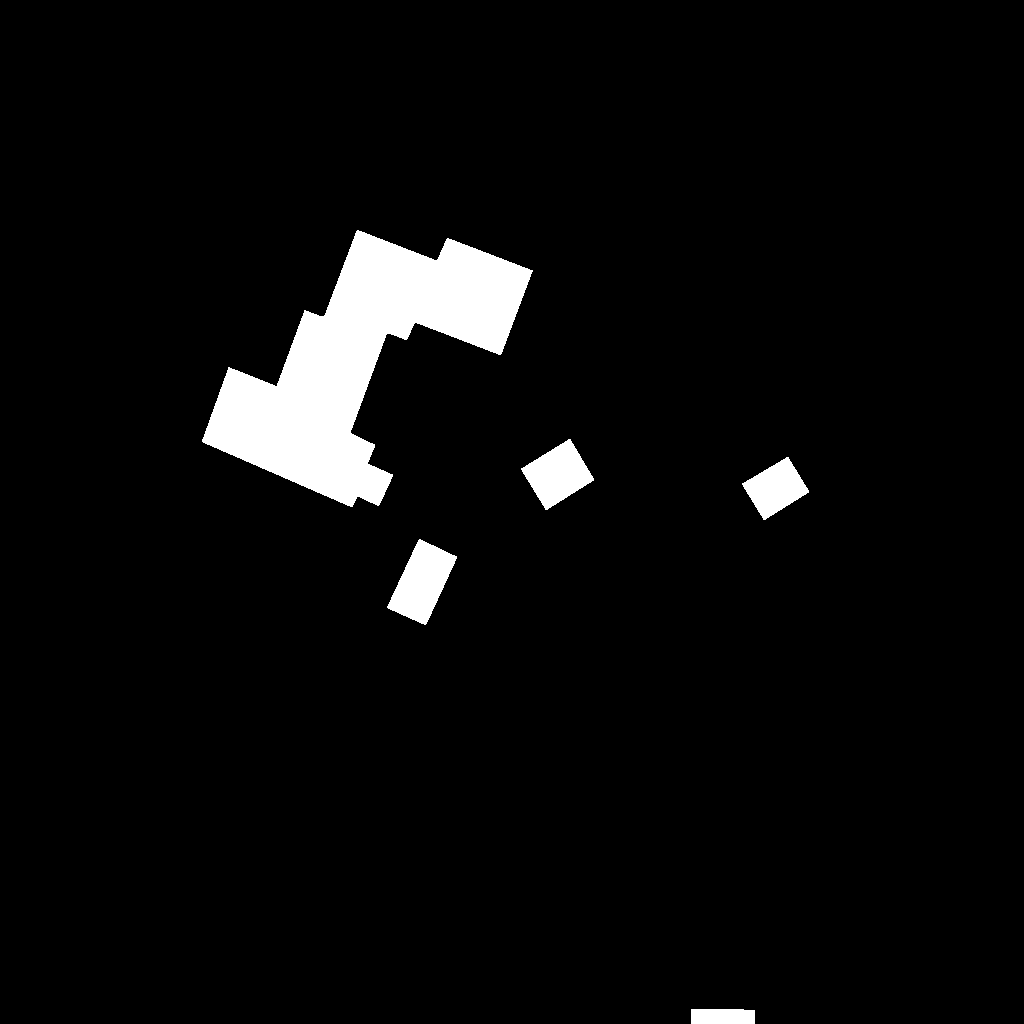building: (202, 230, 534, 508), (387, 539, 458, 626), (521, 439, 595, 511), (742, 457, 810, 521), (691, 1009, 756, 1024)
